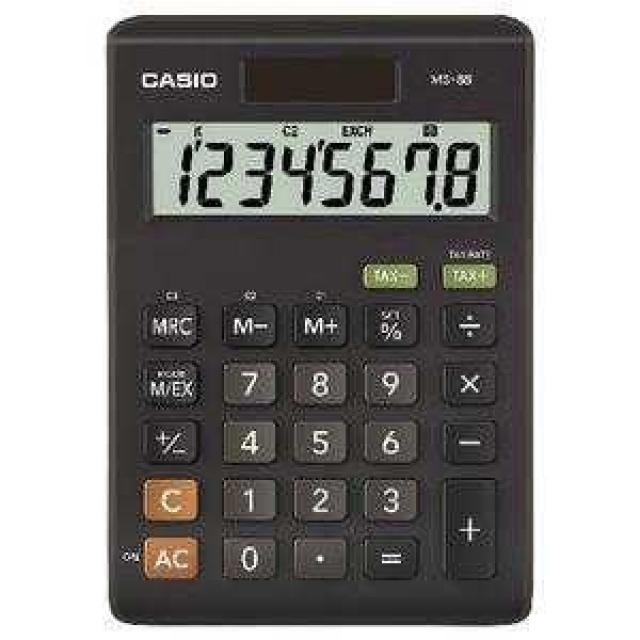Calculator: (104, 13, 536, 625)
